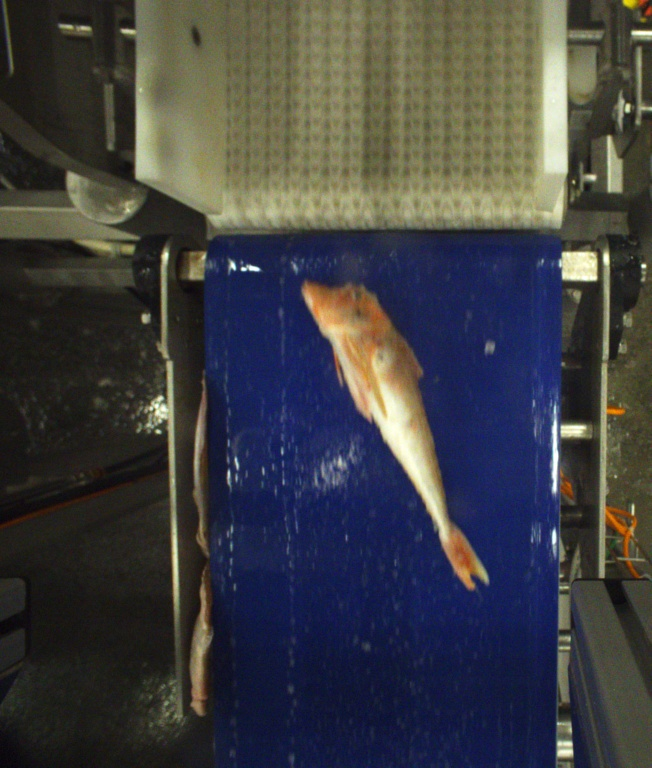GUU: (297, 279, 491, 593)
